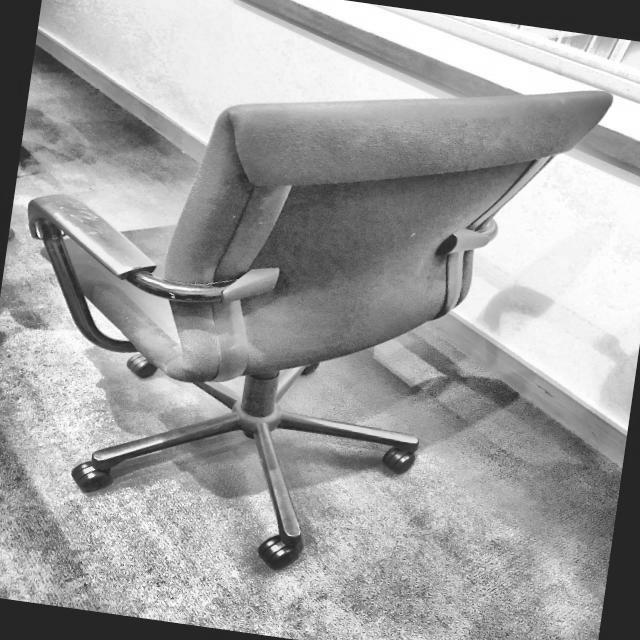chair: (0, 12, 612, 608)
